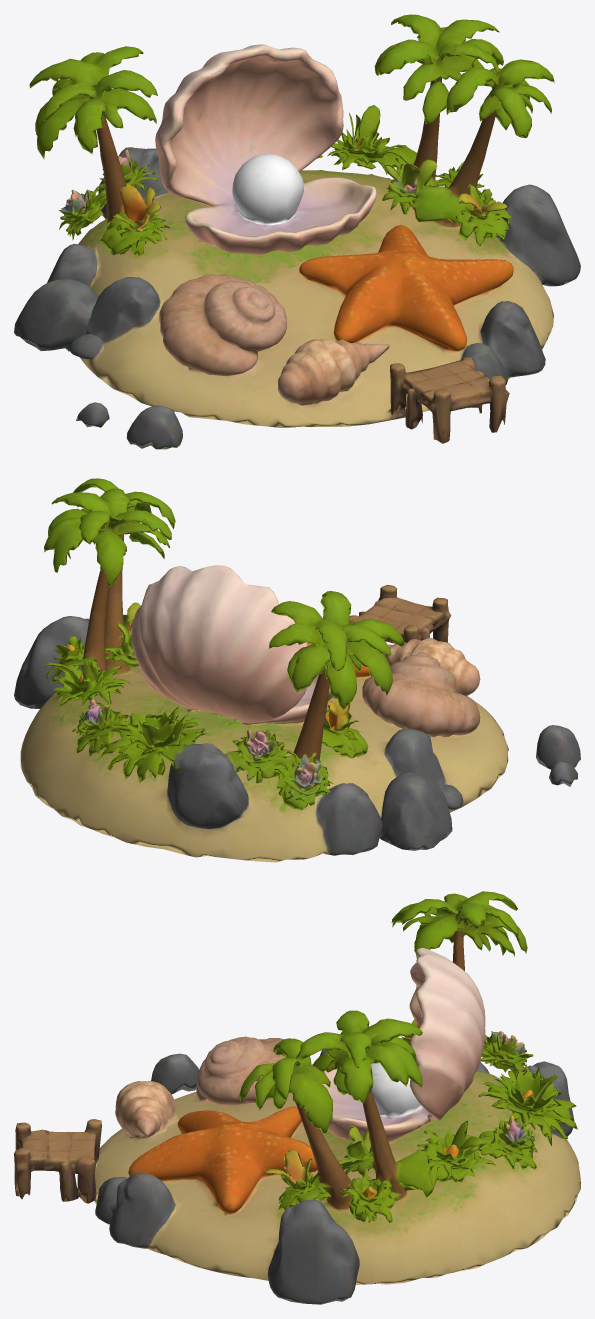
Rendered from isl-08.glb.
3 renders of one model, top to bottom at view 1: azimuth 30°, elevation 25°; view 2: azimuth 150°, elevation 25°; view 3: azimuth 270°, elevation 25°, orthographic. The views are drawn at different scales.
Parts seen in each view (by area): view 1: world; view 2: world; view 3: world.
Part boxes in pixels (x1,y1,x2,y2): world: (14,14,580,449); world: (14,478,580,862); world: (14,891,580,1304).
Size of the model in its own units: 0.9969 by 0.4454 by 0.9603.
Materials: 1 (1 with a texture image).
